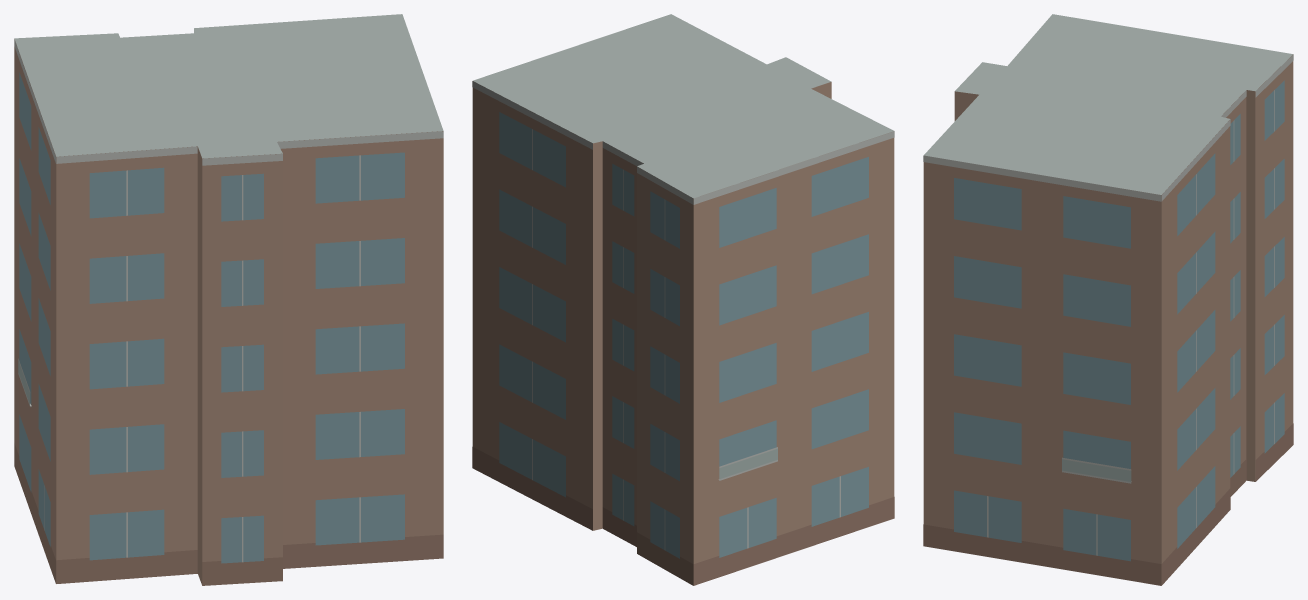
The model's file is survey-upis-32878036.glb.
3 renders of one model, left to right at view 1: azimuth 30°, elevation 25°; view 2: azimuth 150°, elevation 25°; view 3: azimuth 270°, elevation 25°, orthographic. The views are drawn at different scales.
Parts seen in each view (by area): view 1: survey-upis-32878036.tmp; view 2: survey-upis-32878036.tmp; view 3: survey-upis-32878036.tmp.
Boxes of the visible parts, left/top/right/bottom form: survey-upis-32878036.tmp: left=14, top=14, right=443, bottom=585; survey-upis-32878036.tmp: left=472, top=14, right=894, bottom=585; survey-upis-32878036.tmp: left=923, top=14, right=1293, bottom=585.
Bounding box in the file's own units: 14.32 × 14.4 × 12.36.
